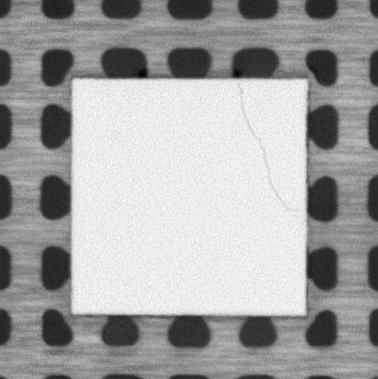DIE_CRACK: (237, 83, 295, 215)
